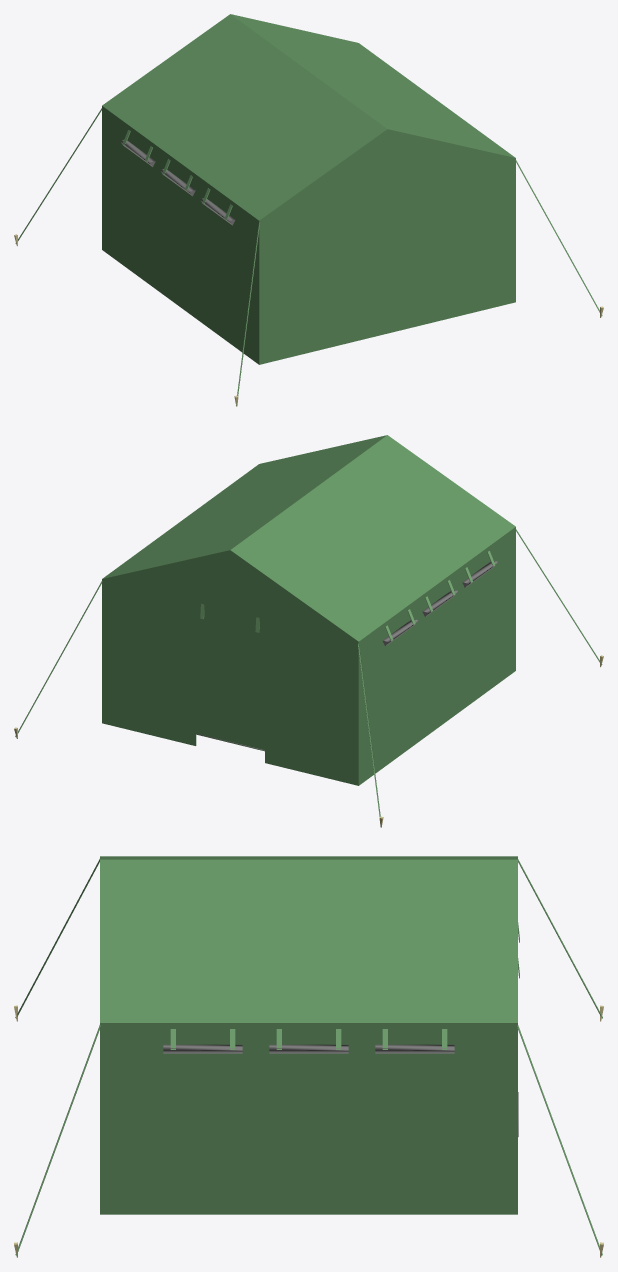
File: Tents.glb
3 views of the same model, one above another, from view 1: azimuth 30°, elevation 25°; view 2: azimuth 150°, elevation 25°; view 3: azimuth 270°, elevation 25° (orthographic). The views are drawn at different scales.
Parts seen in each view (by area): view 1: Root; view 2: Root; view 3: Root.
Boxes of the visible parts, bbox=[...] form: Root: bbox=[14, 14, 603, 406]; Root: bbox=[14, 435, 603, 827]; Root: bbox=[14, 856, 603, 1257].
Size of the model in its own units: 5.33 by 2.91 by 5.57.
